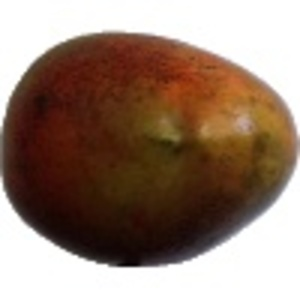manga: (1, 30, 300, 267)
